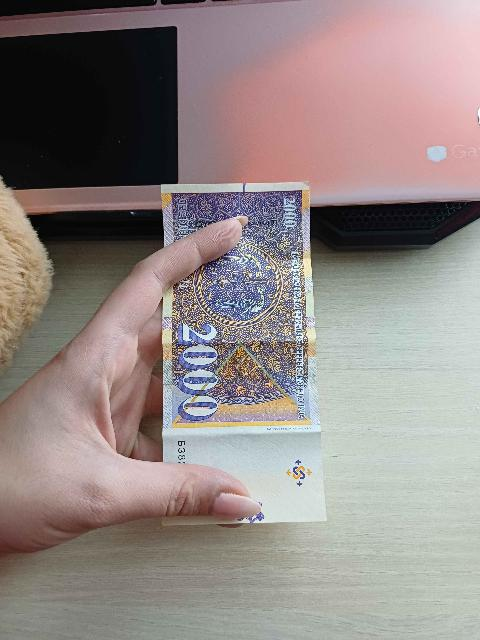2000_note: (163, 183, 324, 521)
